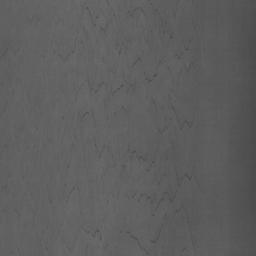Silk spot: (54, 0, 205, 255), (1, 174, 80, 251), (0, 96, 51, 160), (0, 43, 24, 117), (181, 232, 199, 256), (252, 140, 256, 212)
